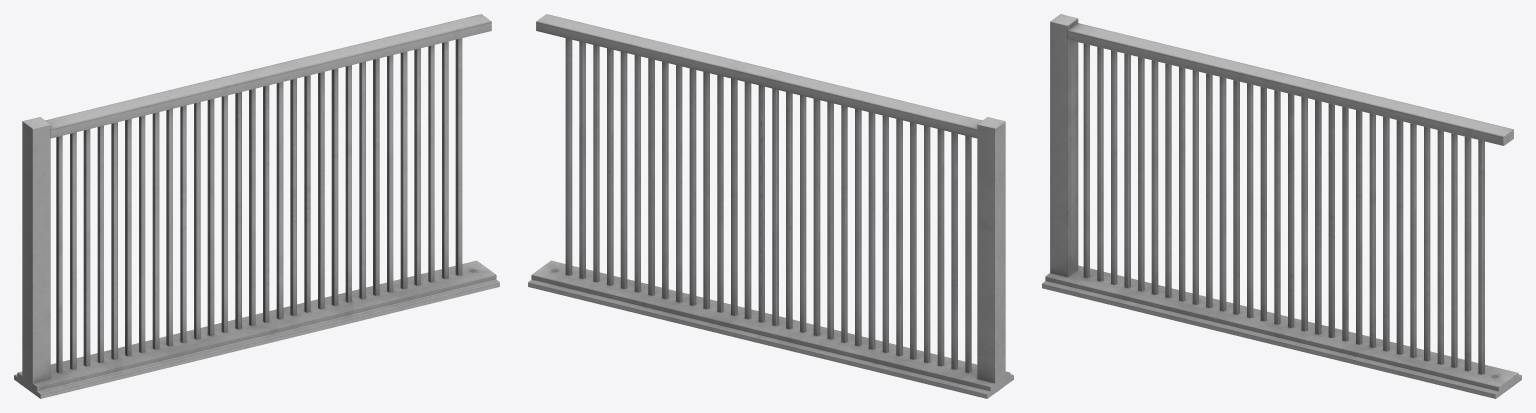
File: Fence_01_End.FBX
3 views of the same model, side by side, from view 1: azimuth 30°, elevation 25°; view 2: azimuth 150°, elevation 25°; view 3: azimuth 330°, elevation 25° (orthographic).
Visible parts, largest first — view 1: Fence_01_End; view 2: Fence_01_End; view 3: Fence_01_End.
Boxes of the visible parts, x1,y1,x2,y2 form: Fence_01_End: (14,14,499,398); Fence_01_End: (528,14,1013,398); Fence_01_End: (1042,14,1521,398).
Bounding box in the file's own units: 200 × 110 × 20.
